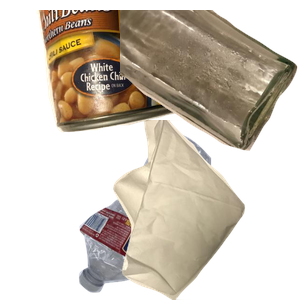glass: (120, 10, 300, 153)
metal: (34, 10, 213, 135)
plastic: (76, 131, 280, 300)
trash: (111, 120, 300, 300)
